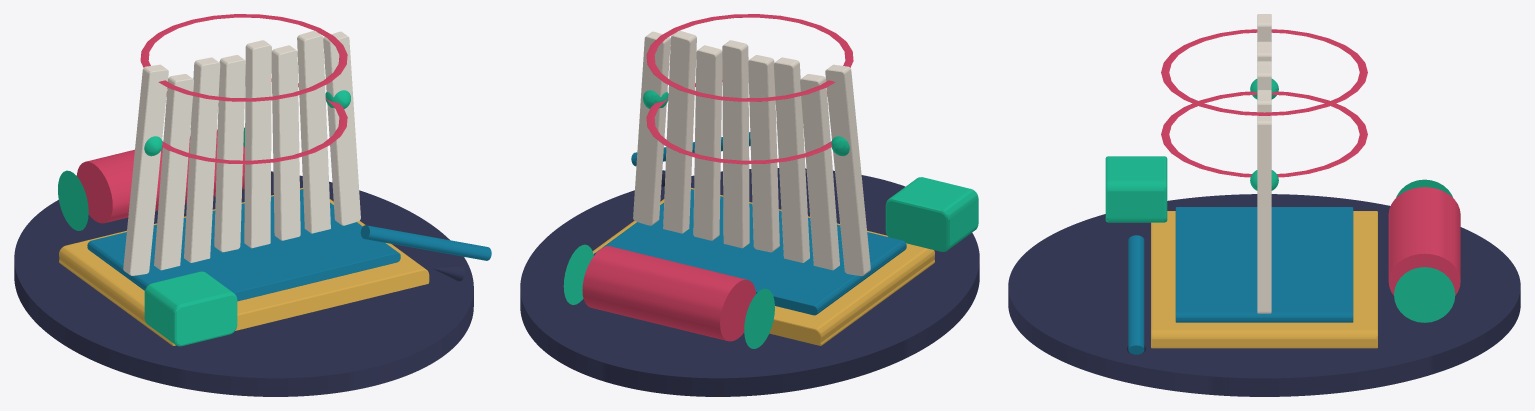
Rendered from 0266_世界古代文明图鉴_甲骨.glb.
3 views of the same model, side by side, from view 1: azimuth 30°, elevation 25°; view 2: azimuth 150°, elevation 25°; view 3: azimuth 270°, elevation 25° (orthographic).
Parts seen in each view (by area): view 1: card_0266; view 2: card_0266; view 3: card_0266.
Boxes of the visible parts, box(x1,y1,x2,y2) form: card_0266: box(14, 14, 491, 396); card_0266: box(520, 14, 979, 396); card_0266: box(1008, 14, 1520, 396).
Size of the model in its own units: 1.62 by 1 by 1.9.
